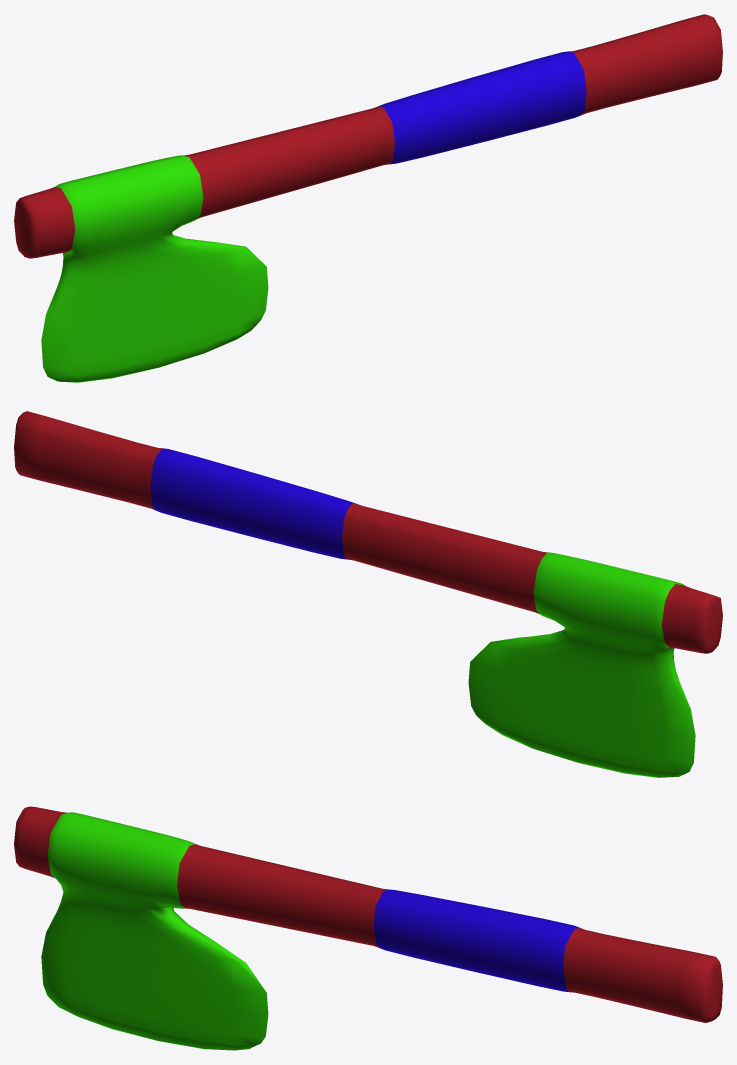
File: Axe Color ID.fbx
3 views of the same model, one above another, from view 1: azimuth 30°, elevation 25°; view 2: azimuth 150°, elevation 25°; view 3: azimuth 330°, elevation 25° (orthographic).
Parts seen in each view (by area): view 1: Cube.026; view 2: Cube.026; view 3: Cube.026.
Boxes of the visible parts, x1=… form: Cube.026: x1=14, y1=14, x2=722, y2=382; Cube.026: x1=14, y1=411, x2=722, y2=777; Cube.026: x1=14, y1=806, x2=722, y2=1050.
Size of the model in its own units: 1.69 by 0.5063 by 0.1258.
